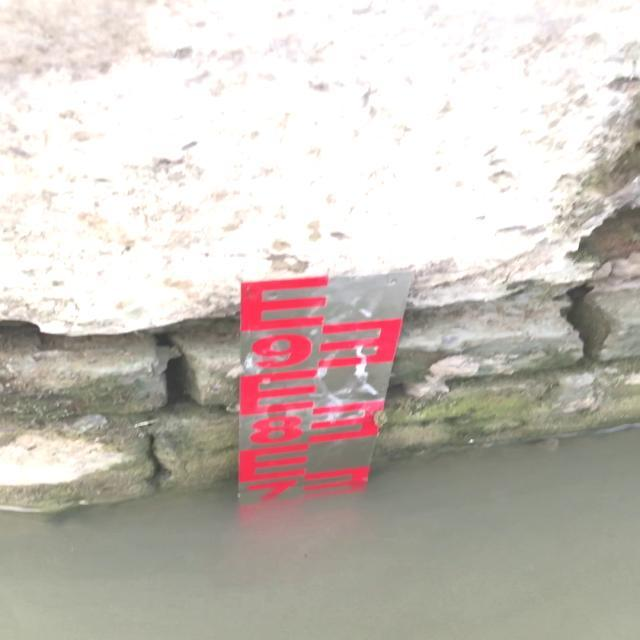ruler: (216, 265, 418, 509)
value: (238, 325, 326, 378), (240, 411, 314, 452)
